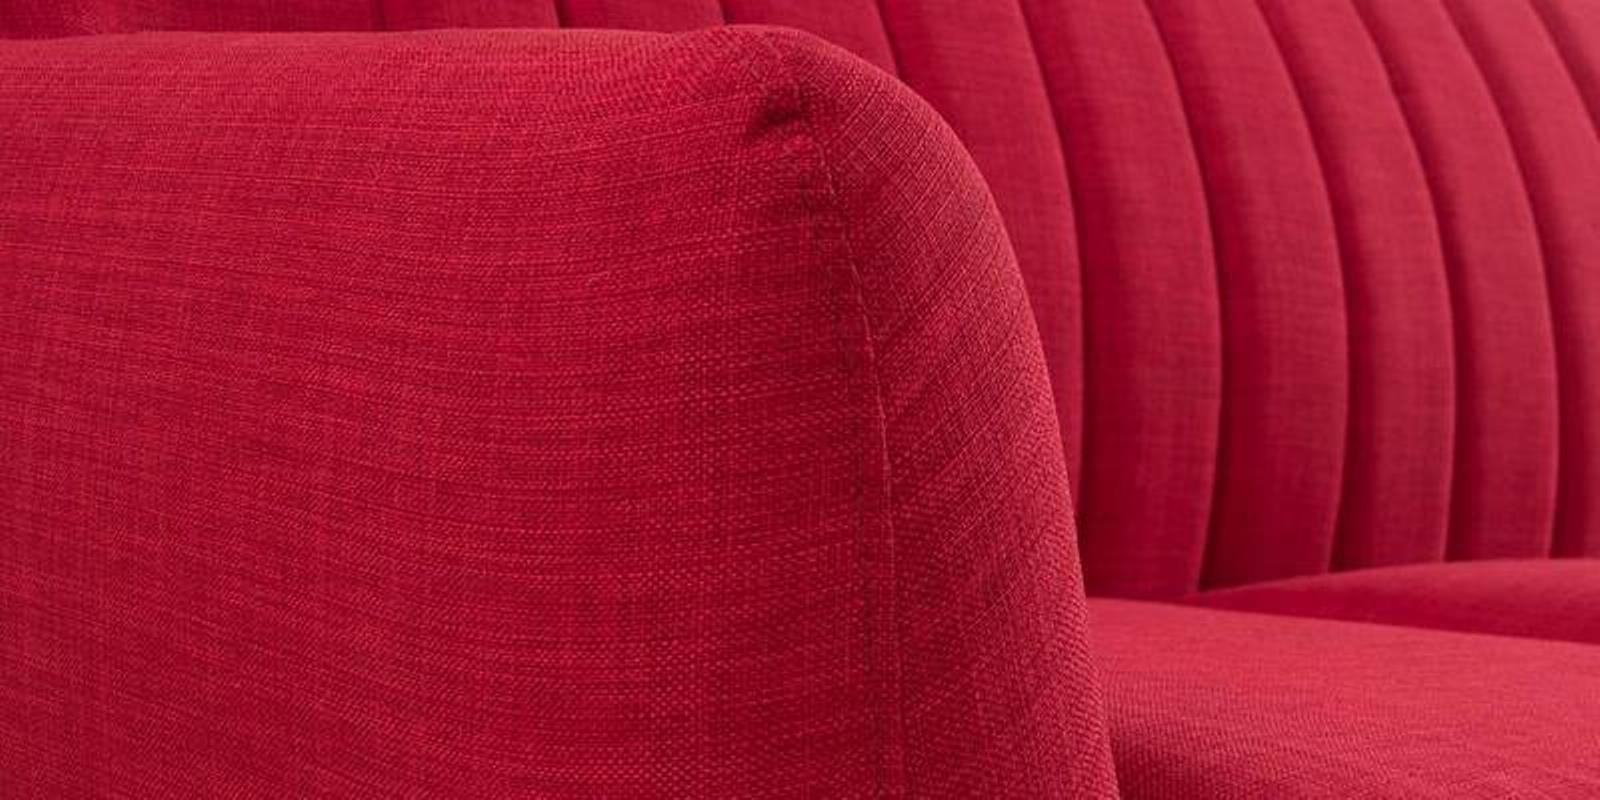Managua Three Seater Sofa in Red Colour by CasaCraft: (2, 3, 1600, 797)
